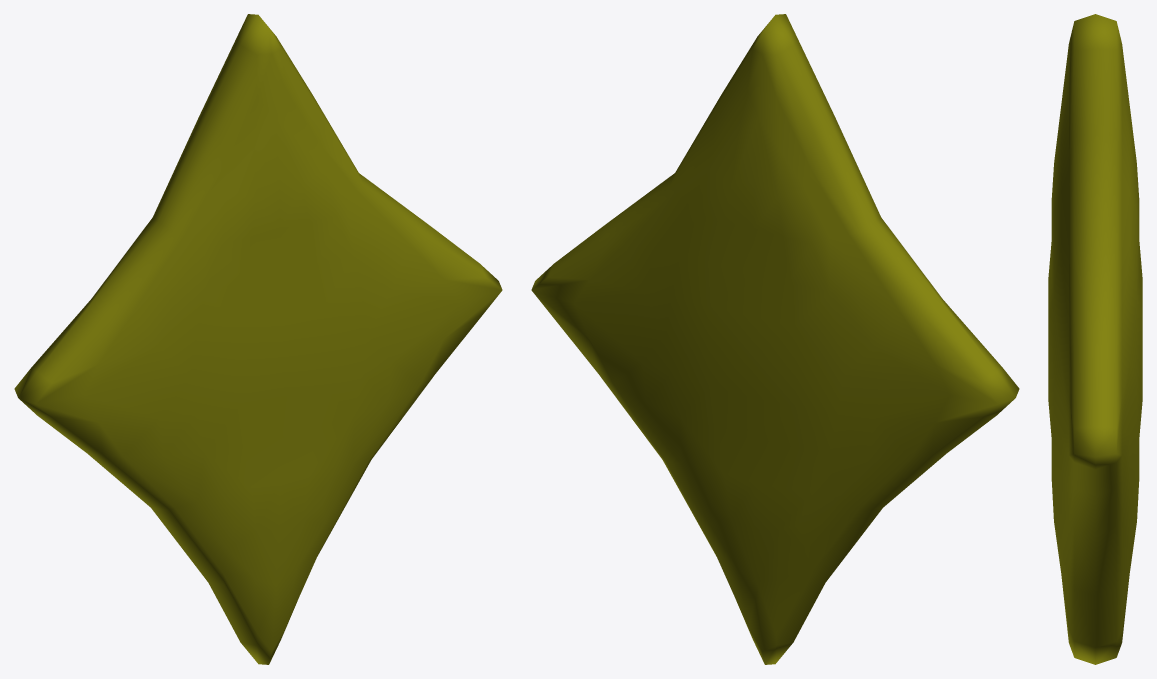
The model's file is dia.fbx.
3 views of the same model, side by side, from view 1: azimuth 30°, elevation 25°; view 2: azimuth 150°, elevation 25°; view 3: azimuth 270°, elevation 25° (orthographic).
Visible parts, largest first — view 1: diamond; view 2: diamond; view 3: diamond.
Boxes of the visible parts, x1,y1,x2,y2 form: diamond: [14, 14, 502, 664]; diamond: [531, 14, 1019, 664]; diamond: [1048, 14, 1142, 664].
Size of the model in its own units: 0.587 by 0.7581 by 0.0995.
